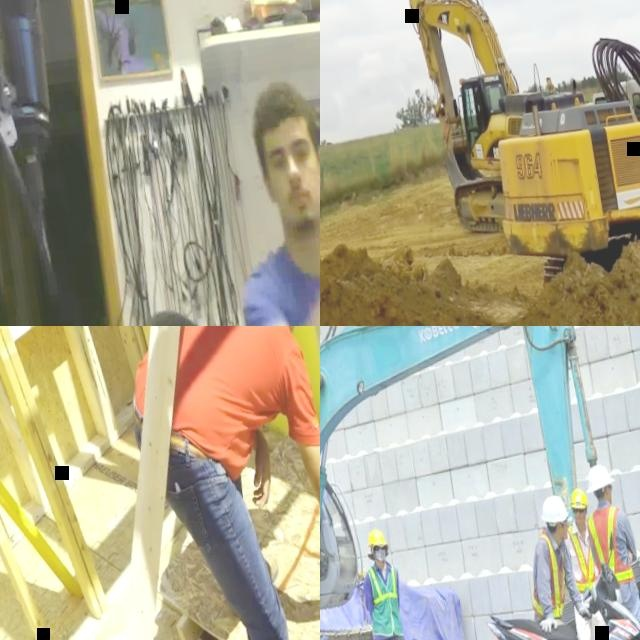Hardhat: (584, 460, 614, 491), (539, 492, 569, 521), (568, 486, 590, 510), (366, 527, 387, 548)
Mask: (374, 550, 389, 563)
NO-Hardhat: (248, 79, 313, 137)
NO-Mask: (275, 180, 320, 233), (557, 526, 571, 540), (572, 512, 585, 525), (284, 326, 300, 333), (607, 492, 616, 502)
NO-Safety Vest: (115, 326, 311, 484), (257, 235, 320, 326)
Person: (111, 326, 320, 640), (209, 50, 320, 326), (513, 491, 605, 640), (577, 457, 640, 640), (556, 483, 622, 640), (354, 521, 438, 640), (466, 87, 492, 142)
Safety Vest: (520, 525, 575, 623), (585, 501, 637, 585), (363, 563, 405, 636), (563, 516, 602, 593)
machinery: (320, 326, 632, 640), (462, 0, 640, 326), (403, 0, 603, 243)
